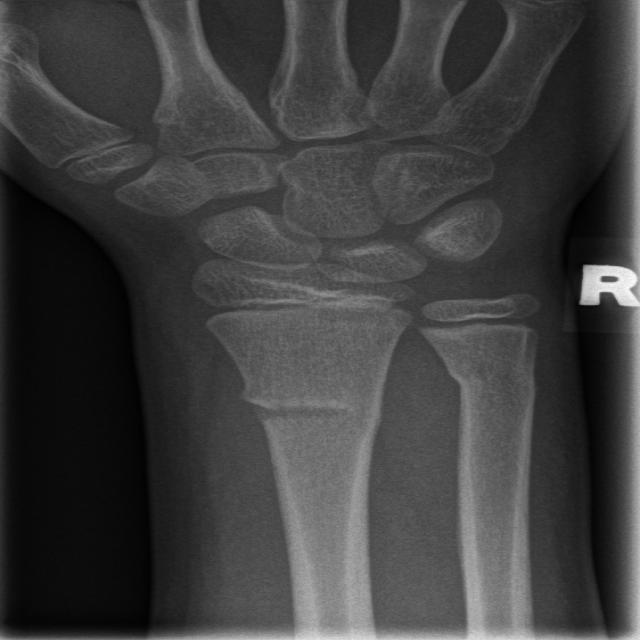radius fracture: (191, 352, 417, 538)
ulna fracture: (419, 325, 566, 477)
